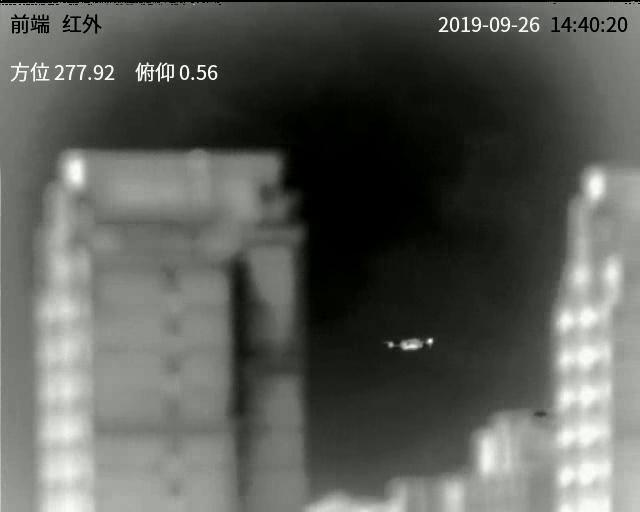DRONE: (386, 336, 435, 351)
